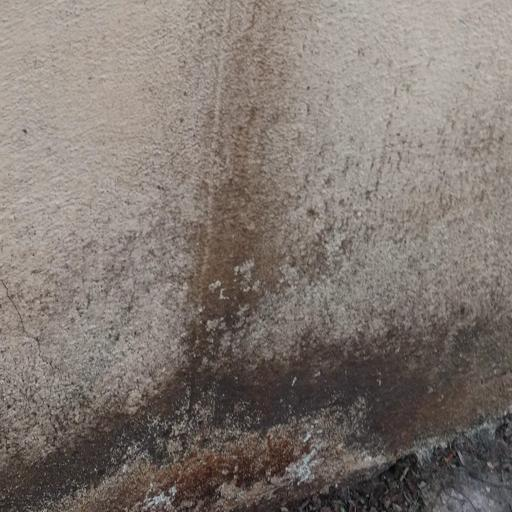stain: (14, 11, 512, 512)
